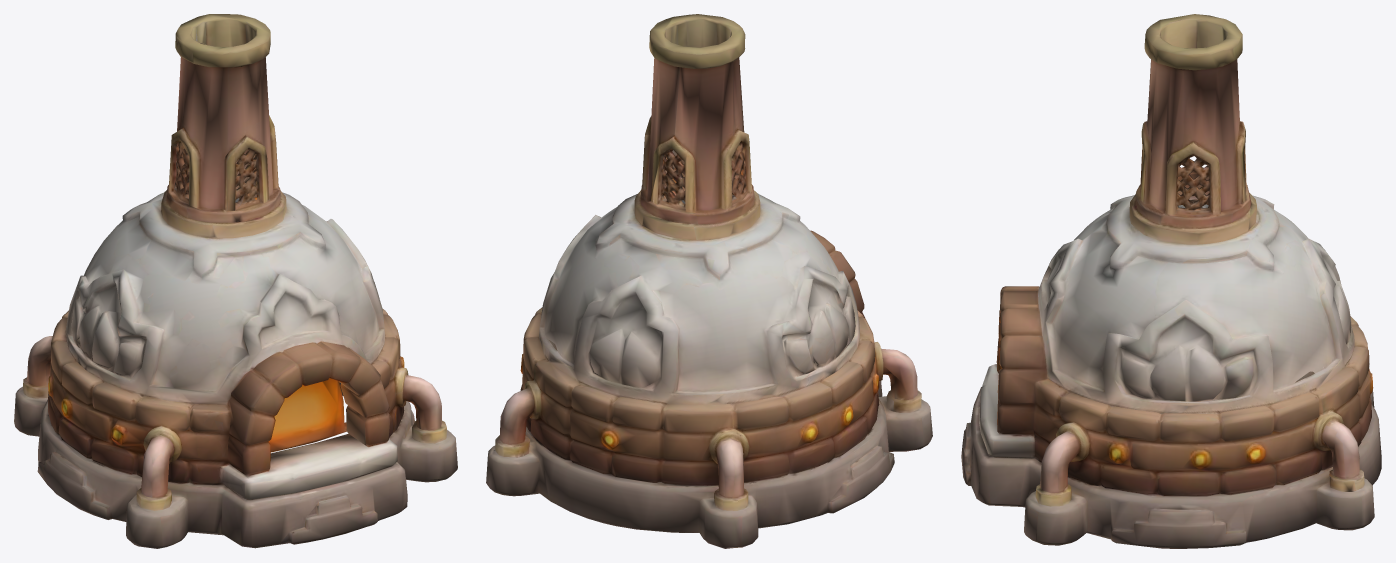
File: smelter.glb
3 views of the same model, side by side, from view 1: azimuth 30°, elevation 25°; view 2: azimuth 150°, elevation 25°; view 3: azimuth 270°, elevation 25° (orthographic). The views are drawn at different scales.
Parts seen in each view (by area): view 1: node_0; view 2: node_0; view 3: node_0.
Part boxes in pixels (box(x1,y1,x2,y2)): node_0: box(14, 14, 457, 548); node_0: box(486, 14, 932, 548); node_0: box(961, 14, 1381, 548).
Size of the model in its own units: 2.18 by 2.6 by 2.29.
1 material, 1 textured.
